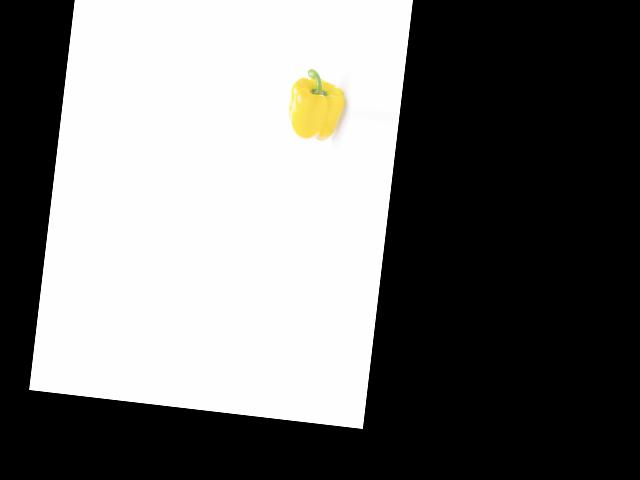bell_pepper: (282, 60, 348, 145)
